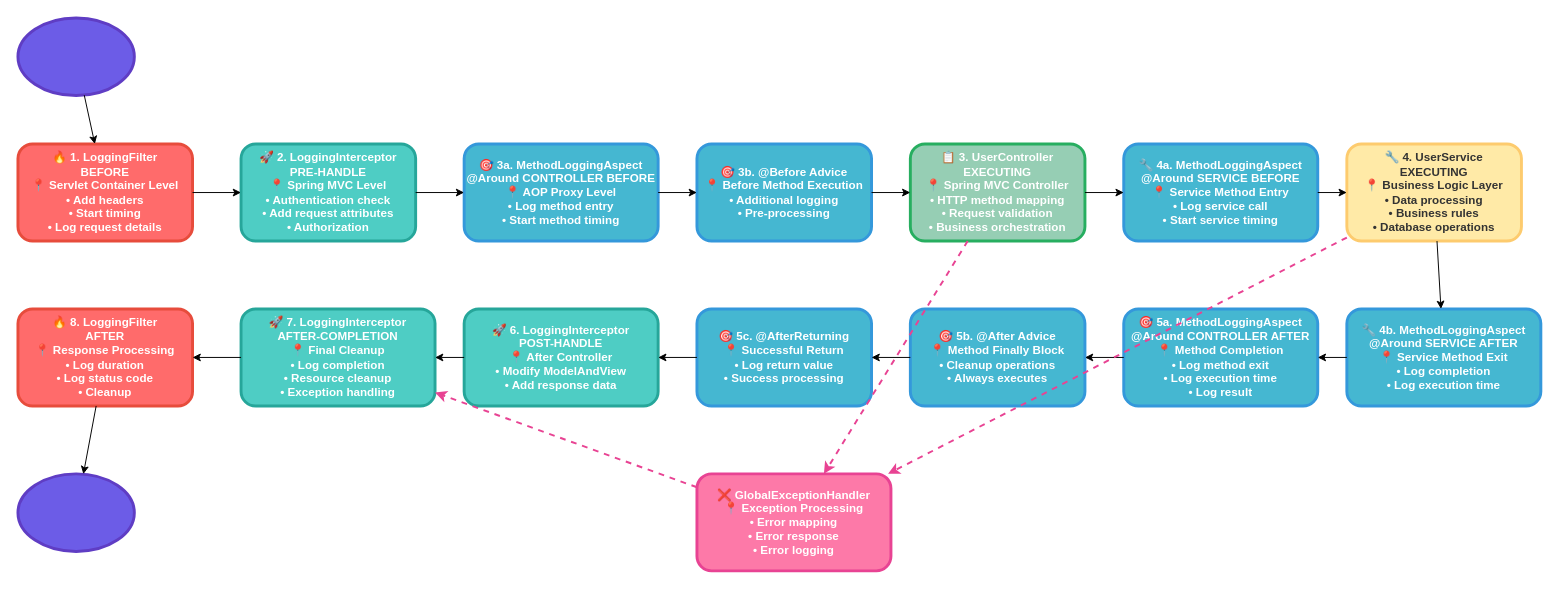
Some shapes in this 1559 by 589 pixel diagram are drawn without their labels. Here are the shapes that lost their labels. From the top down, the centre of each, then its label:
At [75,56]: "🌐 HTTP Request Client".
At [75,512]: "🌐 HTTP Response to Client".
